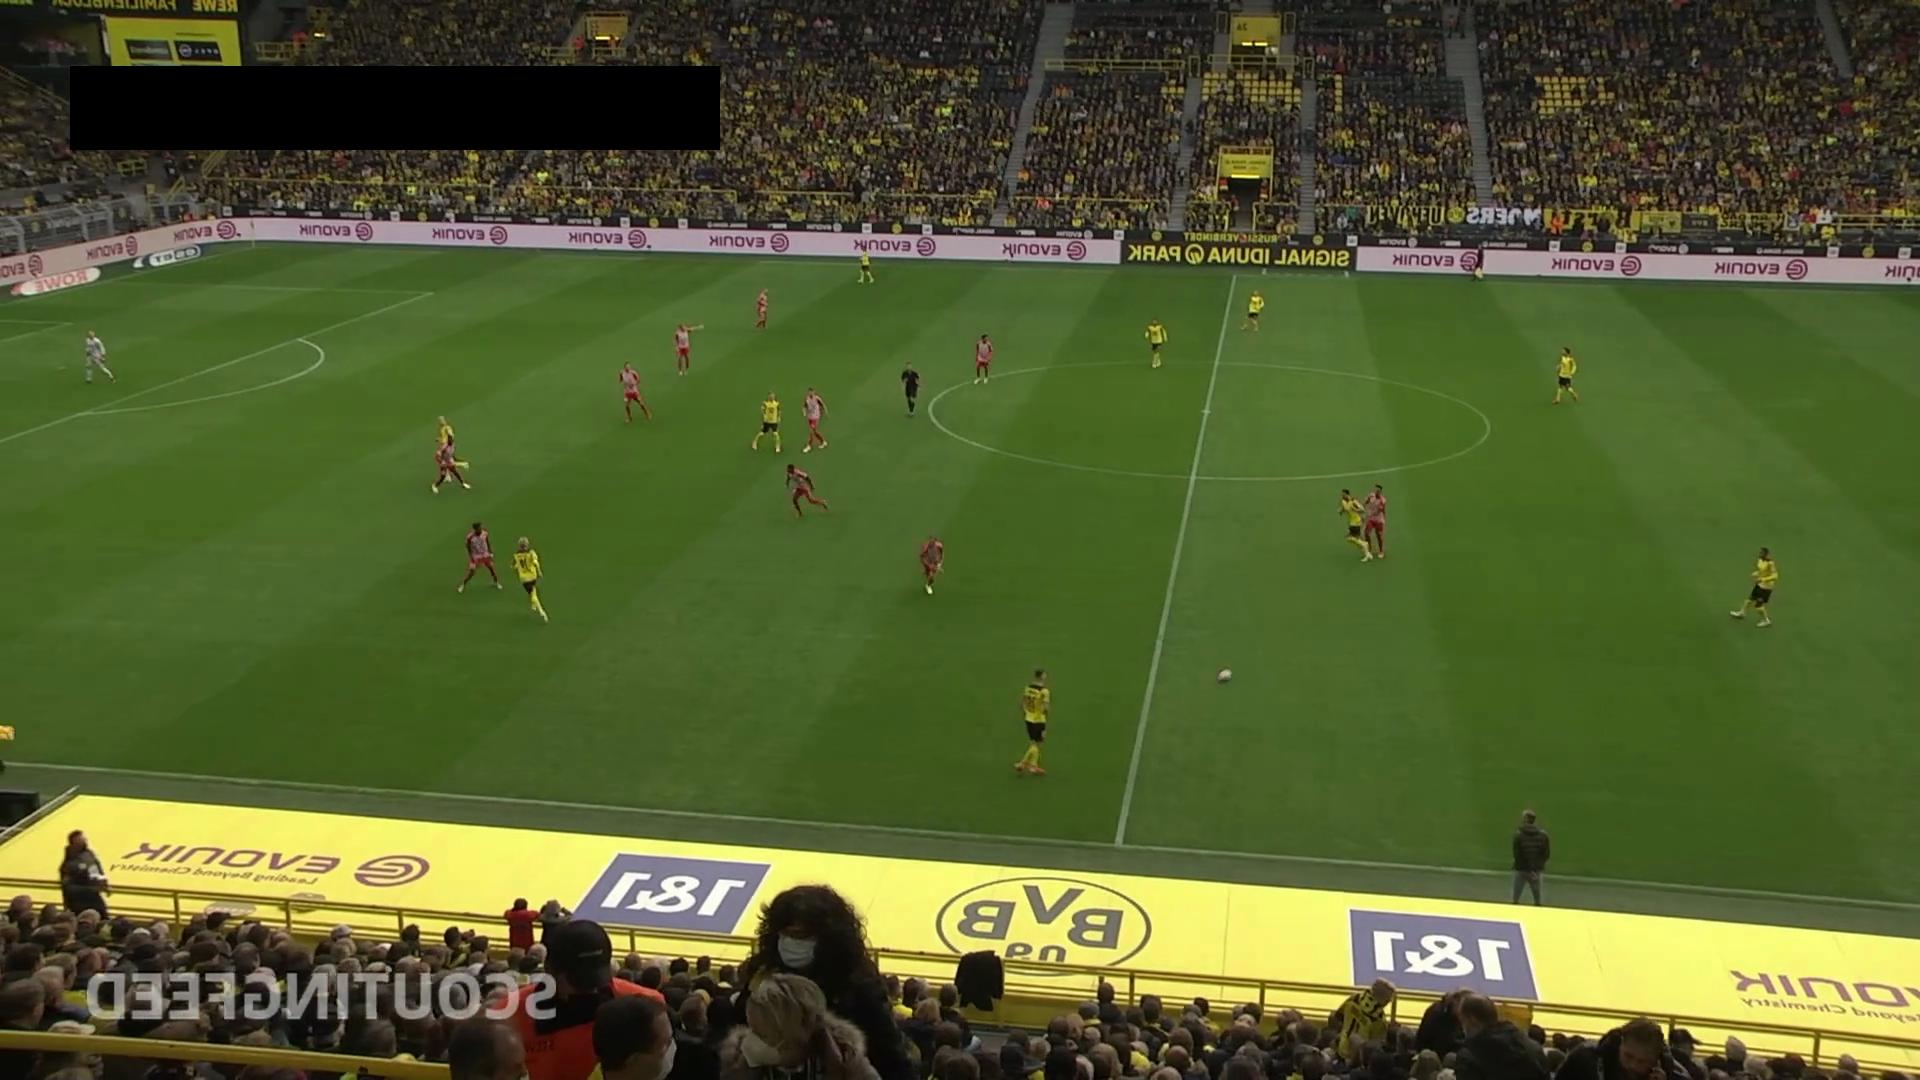ball: (1217, 668, 1232, 683)
goalkeeper: (84, 329, 116, 384)
player: (1728, 546, 1779, 627), (1014, 668, 1051, 775), (510, 536, 549, 623), (456, 521, 502, 593), (785, 463, 830, 519), (1338, 487, 1371, 562), (431, 436, 471, 494), (618, 361, 653, 424), (1361, 482, 1388, 560), (751, 391, 782, 454), (801, 386, 828, 453), (1551, 346, 1581, 405), (919, 534, 945, 594), (1144, 317, 1168, 368), (1240, 289, 1265, 332), (974, 333, 994, 385), (673, 323, 691, 376), (856, 248, 874, 283), (754, 288, 769, 330)
referee: (900, 360, 922, 417), (1467, 242, 1487, 286)
